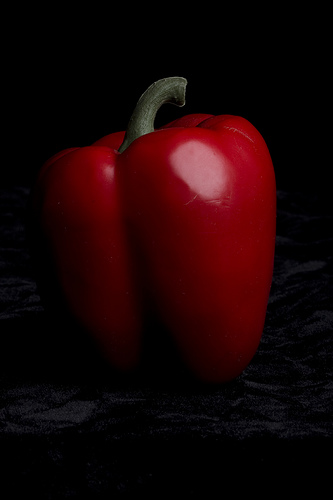capsicum: (33, 73, 280, 393)
